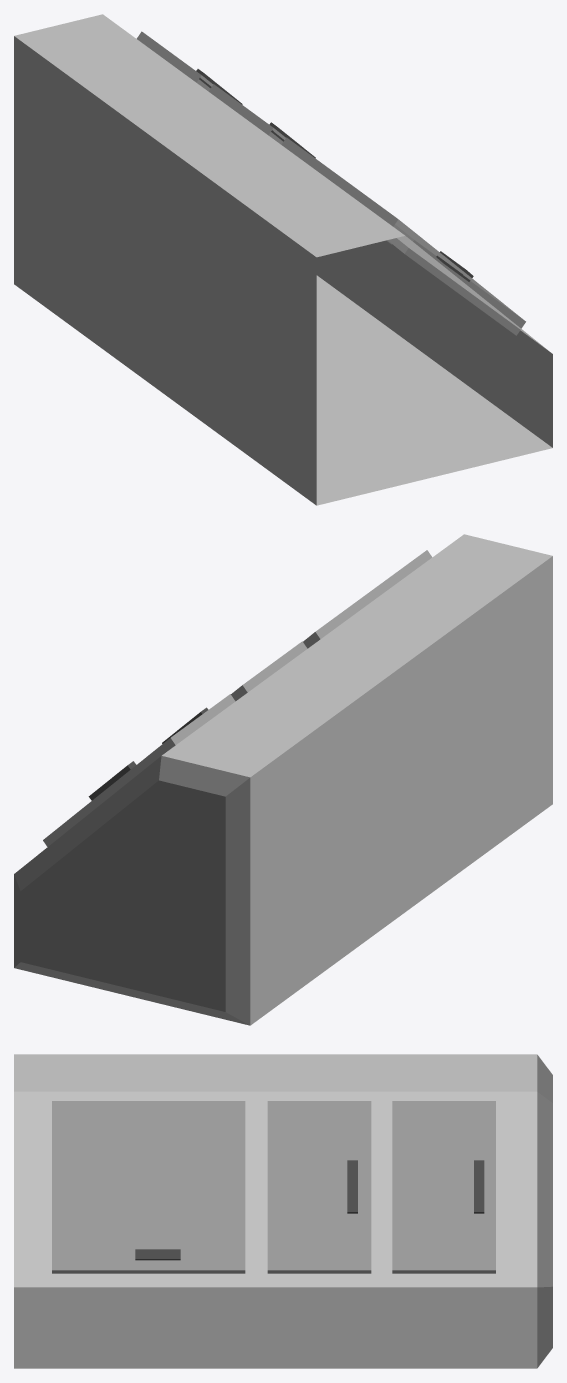
File: Cabinet 02.FBX
The picture shows the model from 3 angles, top to bottom: view 1: azimuth 30°, elevation 25°; view 2: azimuth 150°, elevation 25°; view 3: azimuth 270°, elevation 25°; orthographic projection. The views are drawn at different scales.
Parts seen in each view (by area): view 1: Cabinet 02; view 2: Cabinet 02; view 3: Cabinet 02.
Boxes of the visible parts, left/top/right/bottom form: Cabinet 02: left=14, top=14, right=552, bottom=505; Cabinet 02: left=14, top=534, right=552, bottom=1025; Cabinet 02: left=14, top=1054, right=552, bottom=1368.
Size of the model in its own units: 89.64 by 89.99 by 205.
Materials: 1 (1 with a texture image).
